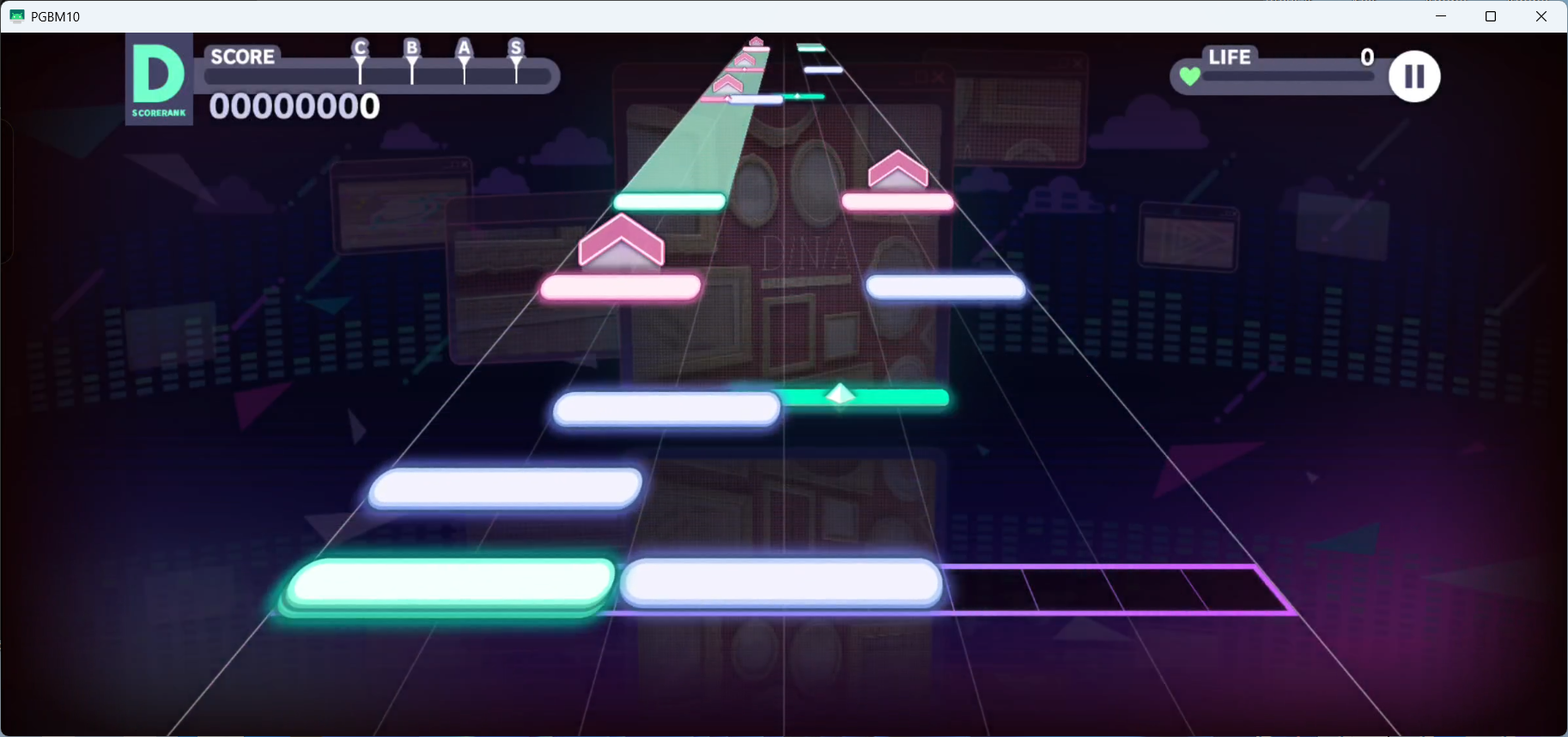flick: (580, 212, 665, 273), (868, 149, 928, 193), (713, 74, 744, 94), (733, 52, 756, 67), (749, 36, 763, 46)
hold: (623, 51, 768, 191), (795, 43, 823, 46)
sweep: (752, 384, 950, 408), (700, 96, 755, 103), (769, 94, 825, 100), (724, 67, 764, 73)
tap: (283, 558, 615, 616), (620, 558, 943, 609), (368, 468, 643, 509), (554, 390, 780, 426), (540, 272, 701, 302), (866, 274, 1026, 301), (842, 193, 955, 211), (614, 193, 726, 210), (728, 95, 783, 104), (804, 66, 843, 74), (742, 46, 769, 52), (798, 46, 825, 51)
